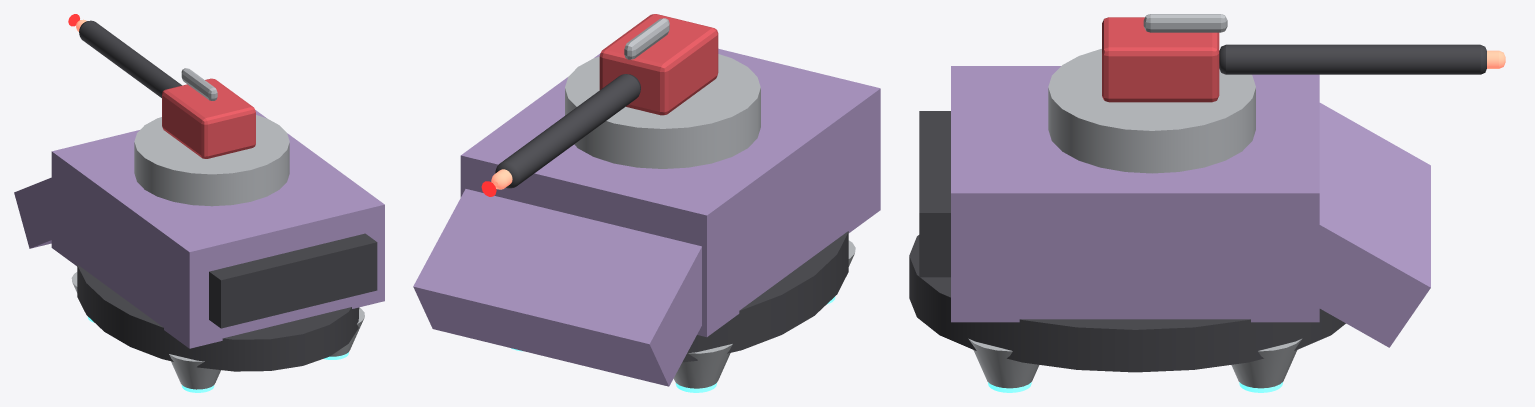
The model's file is robot_medium_laser_hover.glb.
3 renders of one model, left to right at view 1: azimuth 30°, elevation 25°; view 2: azimuth 150°, elevation 25°; view 3: azimuth 270°, elevation 25°, orthographic. The views are drawn at different scales.
Visible parts, largest first — view 1: robot_medium_laser_hover, robot_medium_laser_hover_gun; view 2: robot_medium_laser_hover, robot_medium_laser_hover_gun; view 3: robot_medium_laser_hover, robot_medium_laser_hover_gun.
Boxes of the visible parts, x1,y1,x2,y2 form: robot_medium_laser_hover: (14, 110, 384, 392); robot_medium_laser_hover_gun: (76, 19, 255, 158); robot_medium_laser_hover: (413, 48, 880, 392); robot_medium_laser_hover_gun: (491, 14, 718, 189); robot_medium_laser_hover: (909, 49, 1430, 392); robot_medium_laser_hover_gun: (1102, 14, 1505, 102).
Size of what is drawn, in the model's own units: 3.36 by 3.43 by 5.84.
